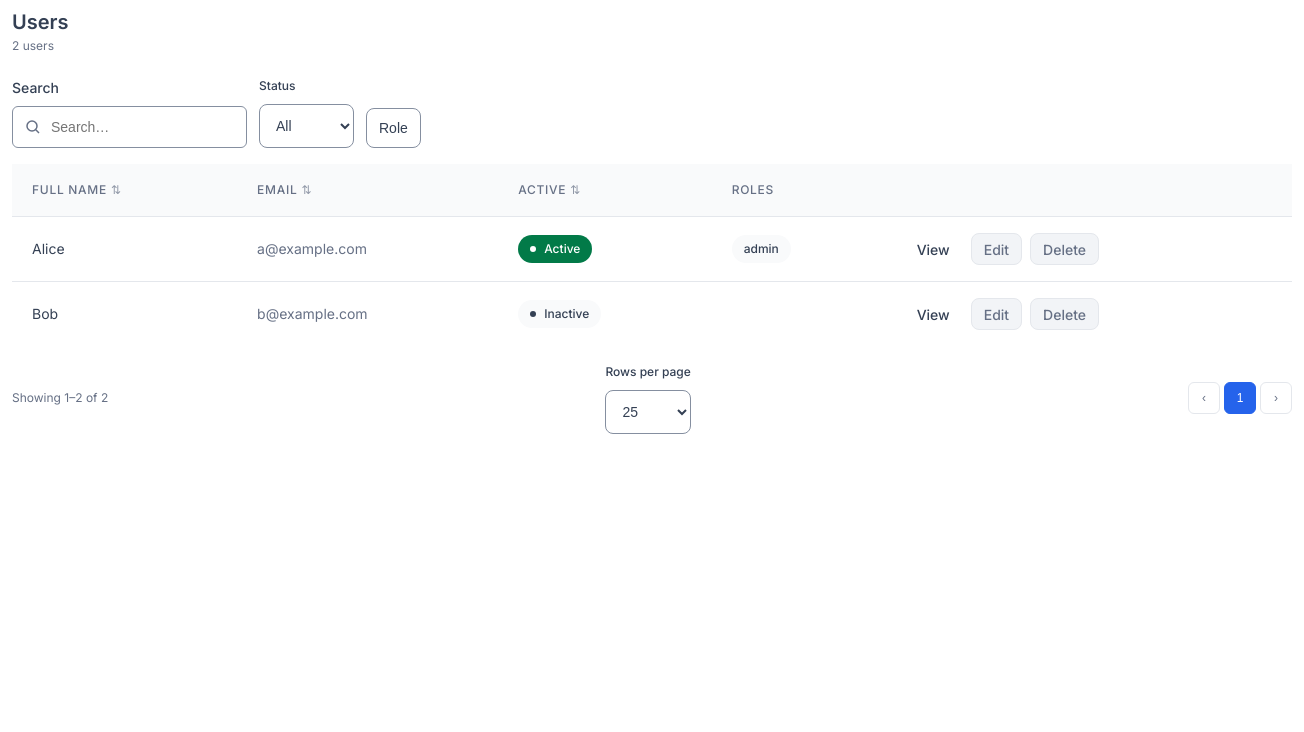
Test: UserListPage › shows FilteredEmpty (not the plain EmptyState) when a search yields zero rows
Expected: the text "Alice" is shown, top-left (12, 217), bottom-right (237, 282)
Type "zzz-no-match" into the search field.
click(142, 127); type("zzz-no-match")  # box top-left (49, 107), bottom-right (234, 147)
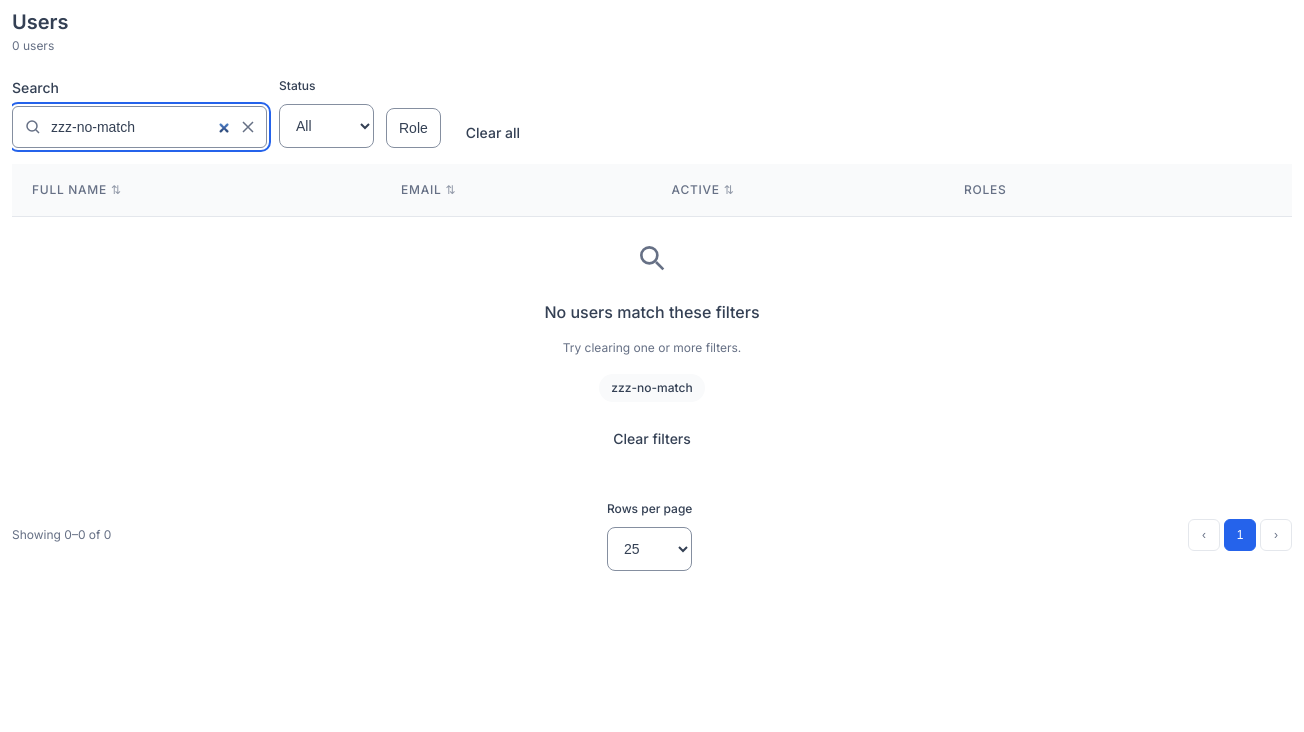
Expected: the text "No users match these filters" is shown, top-left (544, 302), bottom-right (760, 322)
Expected: the button "Clear filters" is shown, top-left (596, 418), bottom-right (708, 458)
